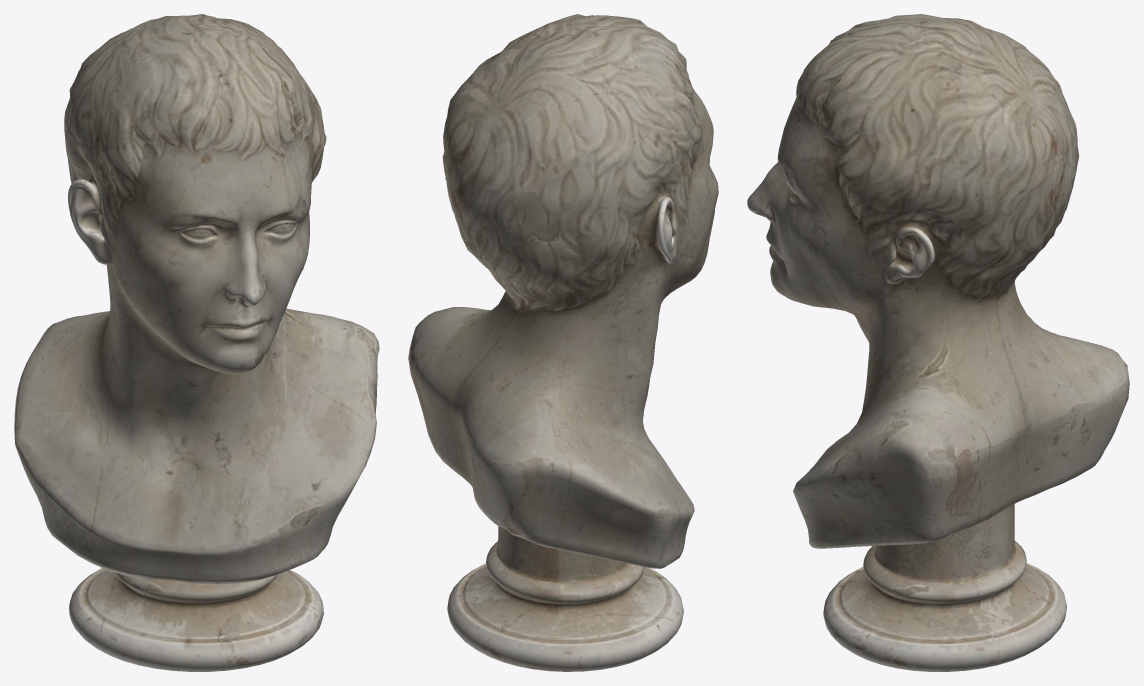
Rendered from marble_bust_01.gltf.
3 renders of one model, left to right at view 1: azimuth 30°, elevation 25°; view 2: azimuth 150°, elevation 25°; view 3: azimuth 270°, elevation 25°, orthographic. The views are drawn at different scales.
Visible parts, largest first — view 1: marble_bust_01; view 2: marble_bust_01; view 3: marble_bust_01.
Boxes of the visible parts, x1=… form: marble_bust_01: x1=14, y1=14, x2=379, y2=671; marble_bust_01: x1=408, y1=14, x2=718, y2=671; marble_bust_01: x1=747, y1=14, x2=1129, y2=671.
Size of the model in its own units: 0.2718 by 0.5149 by 0.2997.
Materials: 1 (1 with a texture image).
